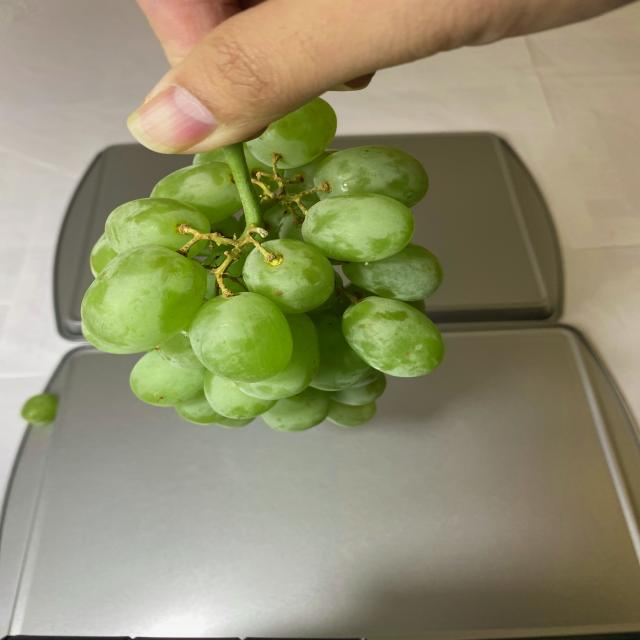grapes: (77, 94, 450, 438)
